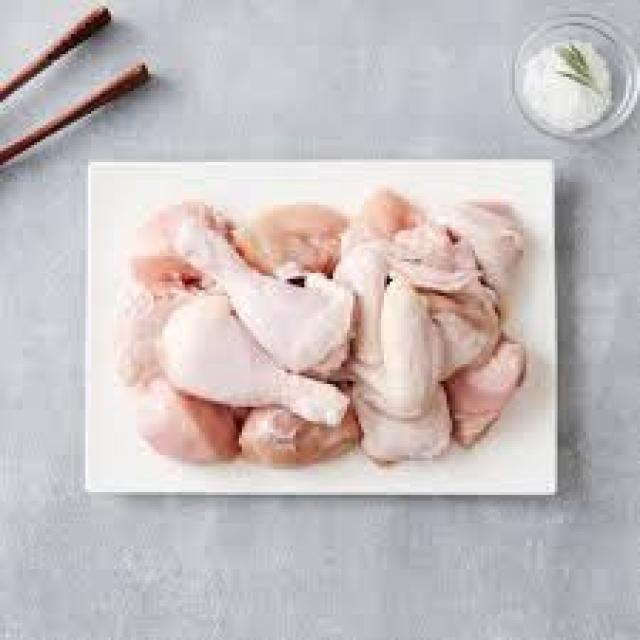chicken: (352, 188, 524, 383), (162, 300, 353, 428), (119, 201, 224, 381), (349, 358, 459, 465), (125, 376, 242, 465), (437, 332, 532, 436), (236, 398, 362, 468), (238, 206, 352, 272)
